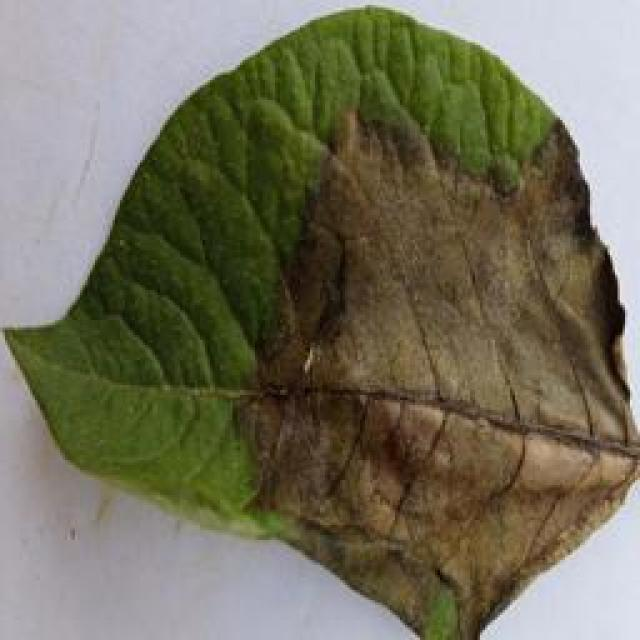Potato_Late_Blight: (3, 4, 628, 629)
